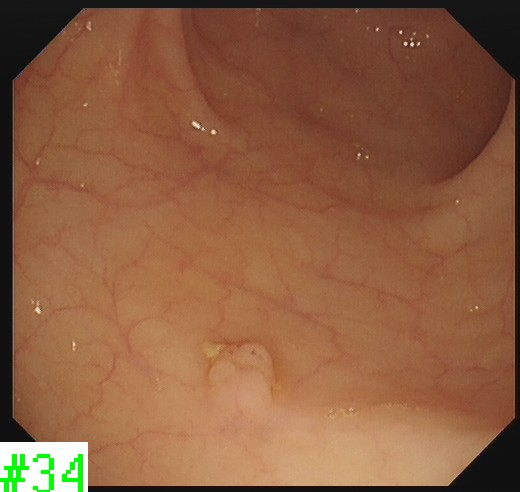adenoma: (203, 340, 278, 411)
